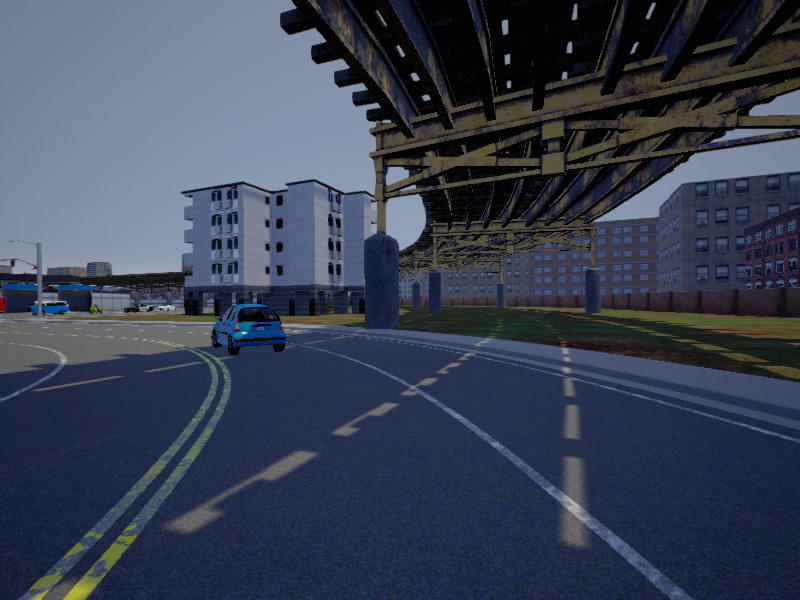Benign: (209, 303, 289, 353), (27, 301, 71, 316), (126, 303, 155, 315)
